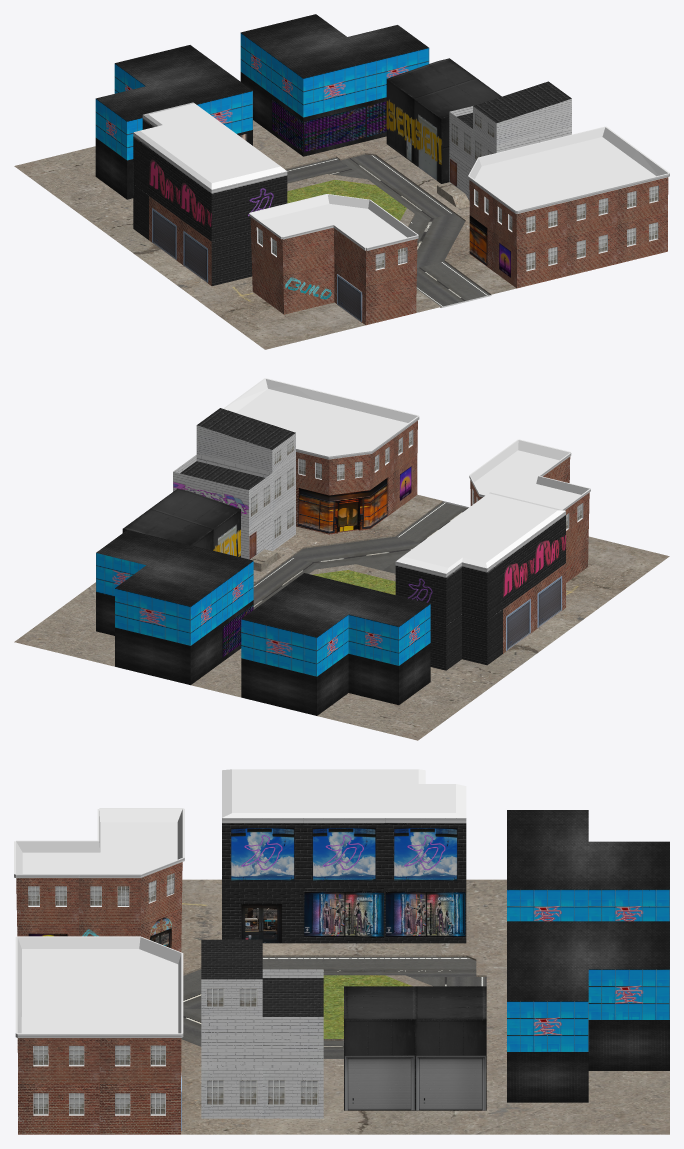
The model's file is escenario2.obj.
3 renders of one model, top to bottom at view 1: azimuth 30°, elevation 25°; view 2: azimuth 150°, elevation 25°; view 3: azimuth 270°, elevation 25°, orthographic. The views are drawn at different scales.
Parts seen in each view (by area): view 1: Plane; view 2: Plane; view 3: Plane.
Boxes of the visible parts, left/top/right/bottom form: Plane: left=14, top=14, right=669, bottom=349; Plane: left=14, top=378, right=669, bottom=740; Plane: left=14, top=769, right=669, bottom=1134.
Bounding box in the file's own units: 16.22 × 4.17 × 17.55.
Materials: 36 (36 with a texture image).
